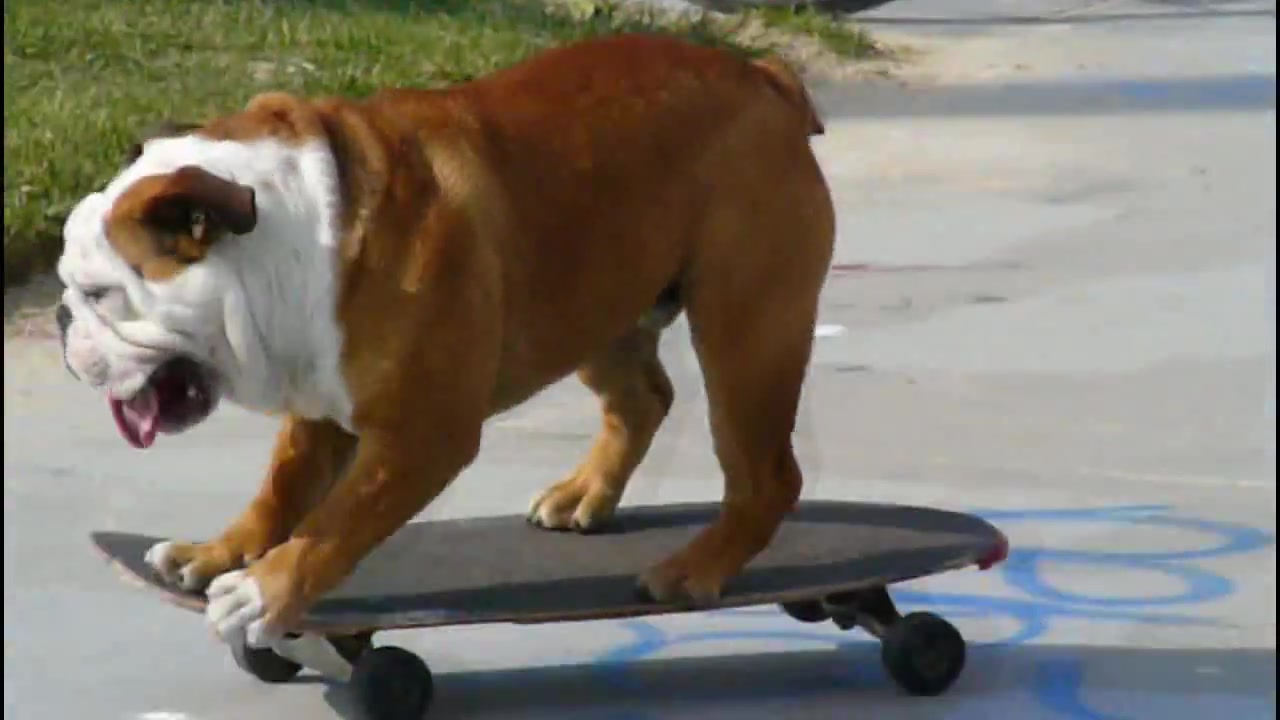dog: (48, 40, 837, 653)
